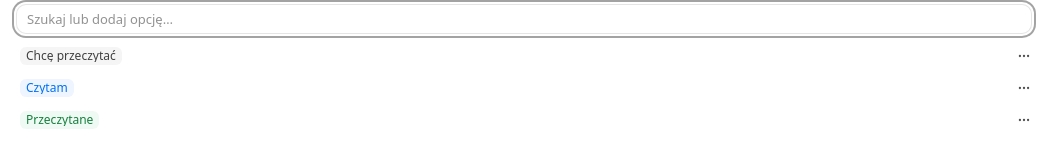
Scenario: OptionPicker › wpisanie zawęża listę
Expected: the number of options is 3, [12,40,1036,72]; [12,72,1036,104]; [12,104,1036,136]
Type "tam" into the field labelled "Szukaj lub dodaj opcję" at x=524, y=19, box [16,4,1032,34]
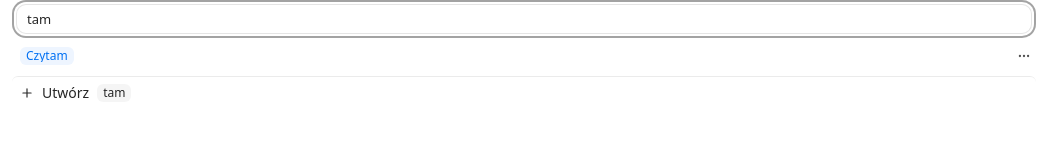
Expected: the options read "Czytam", in this order, [12,40,1036,72]
